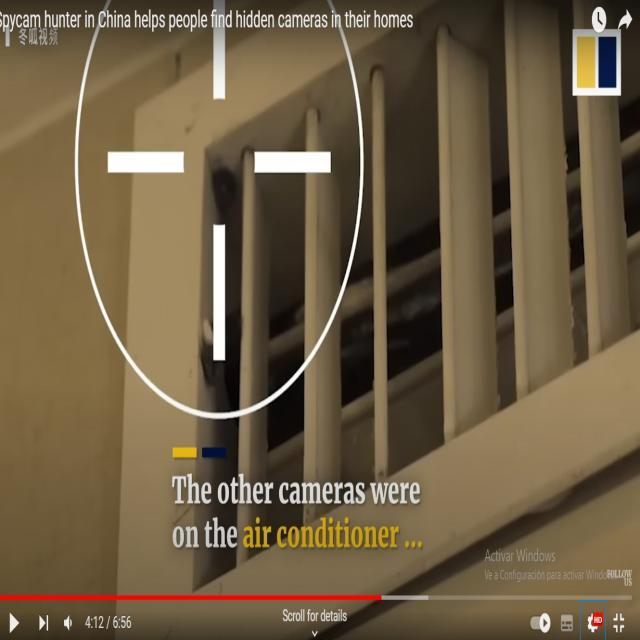hidden camera: (213, 171, 236, 212)
